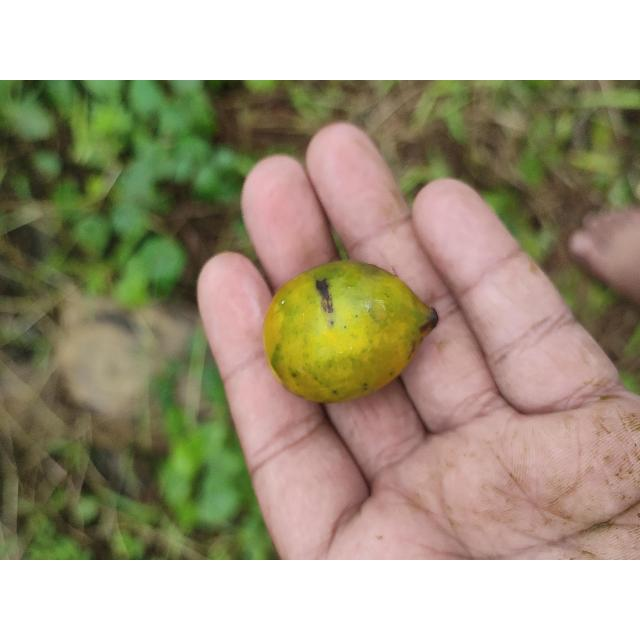good: (262, 260, 439, 405)
